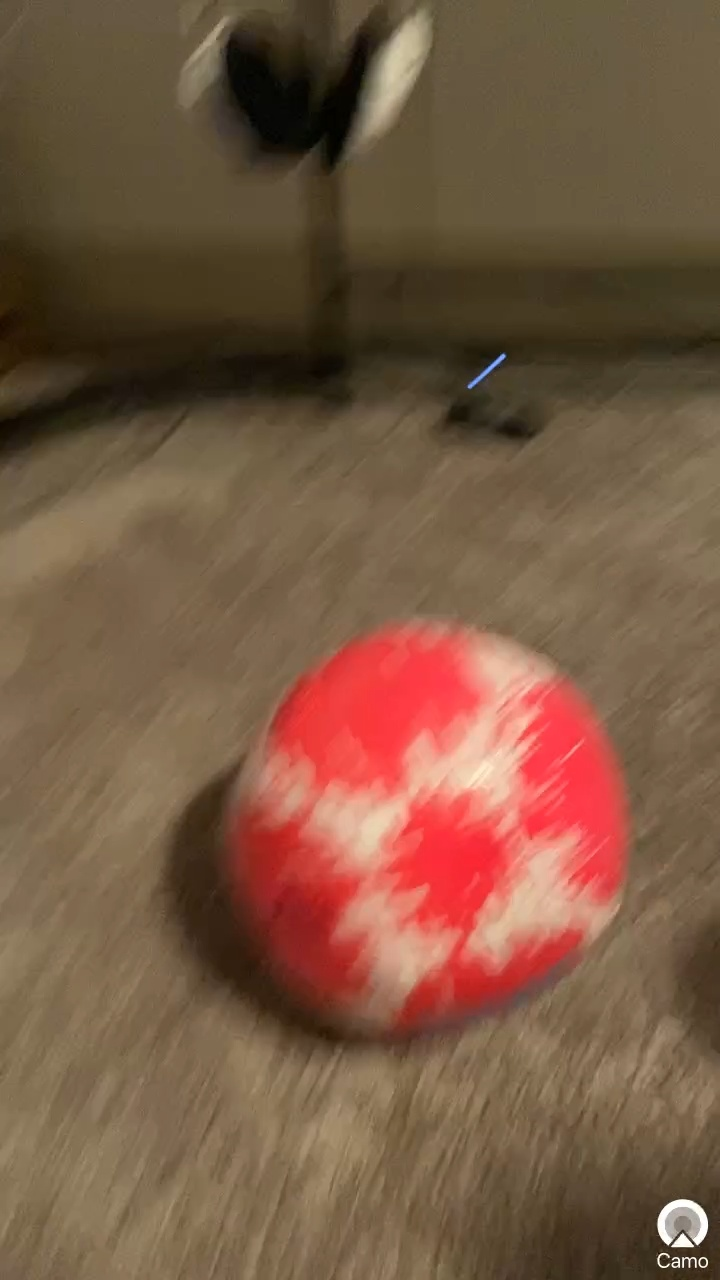Soccer_Ball: (228, 597, 666, 1082)
